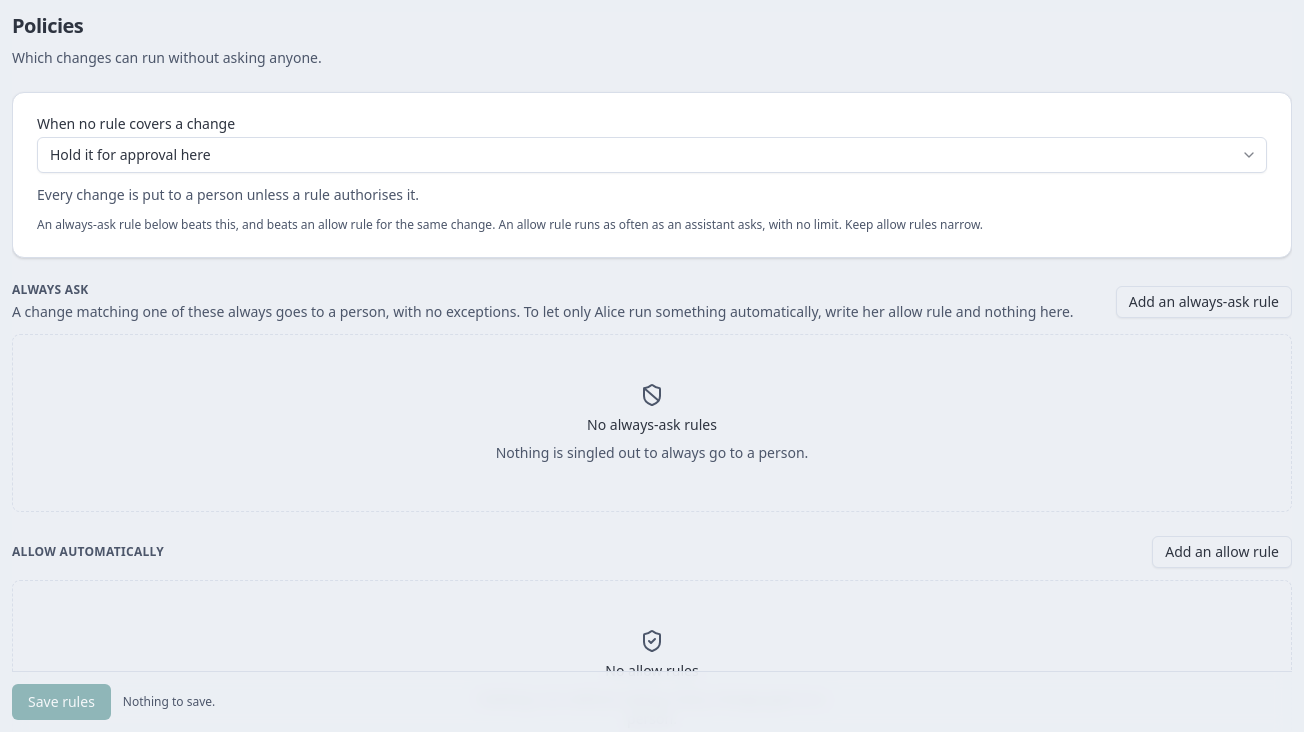
Scenario: saving › will not save a rule with no name, which is what the trail records
Expected: the heading "No allow rules" is shown, [605,661,699,681]
Click the button "Add an allow rule". click: coordinates (1222, 552)
box: [1152,536,1292,568]
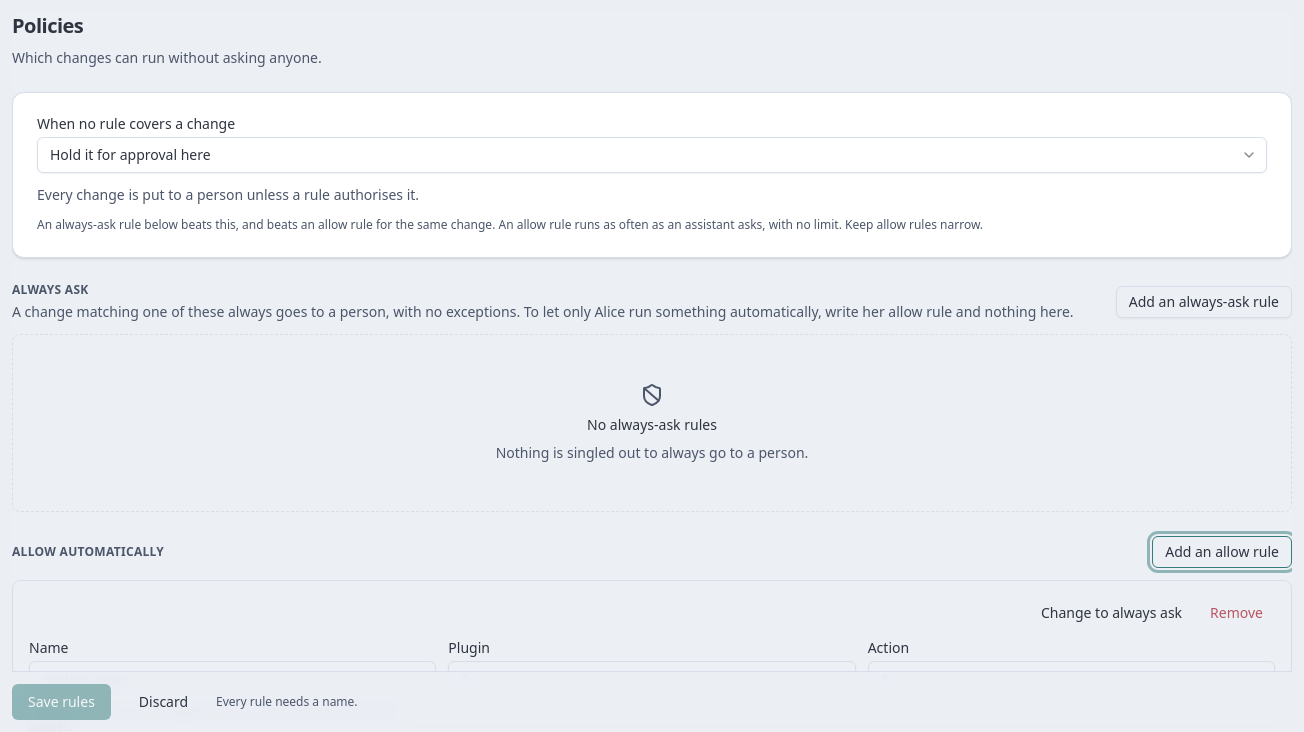
Expected: the button "Save rules" is disabled, [12,684,111,720]
Expected: the text "Every rule needs a name." is shown, [216,694,358,710]
